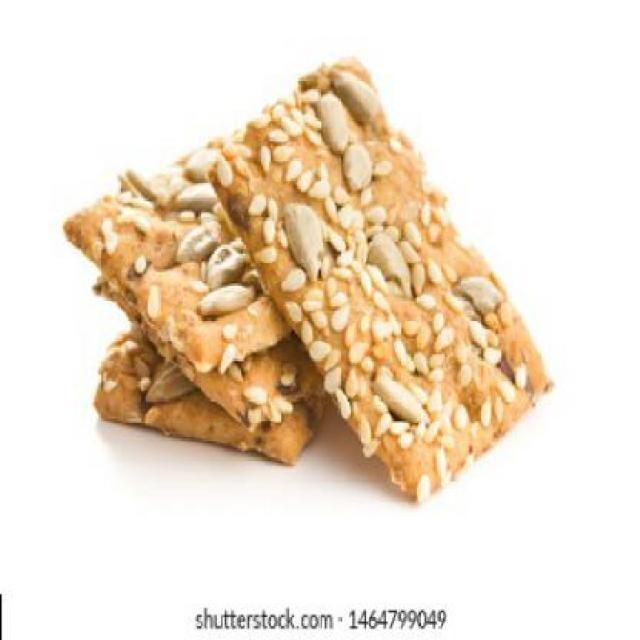Cracker packaged: (222, 28, 556, 498)
